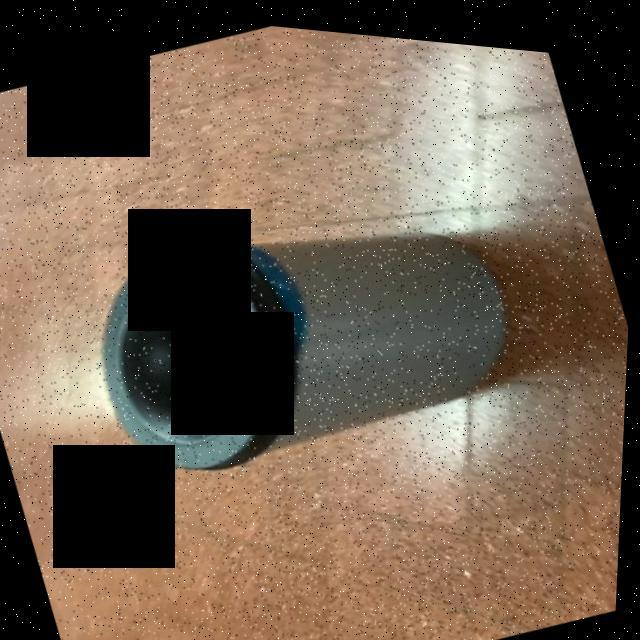bin: (36, 96, 591, 569)
